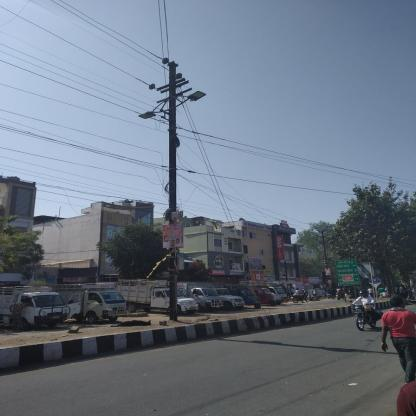Electrical Pole: (139, 53, 217, 323)
